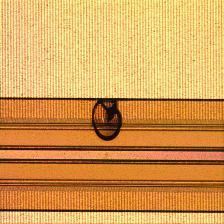PIQ PARTICLE: (92, 95, 124, 144)
